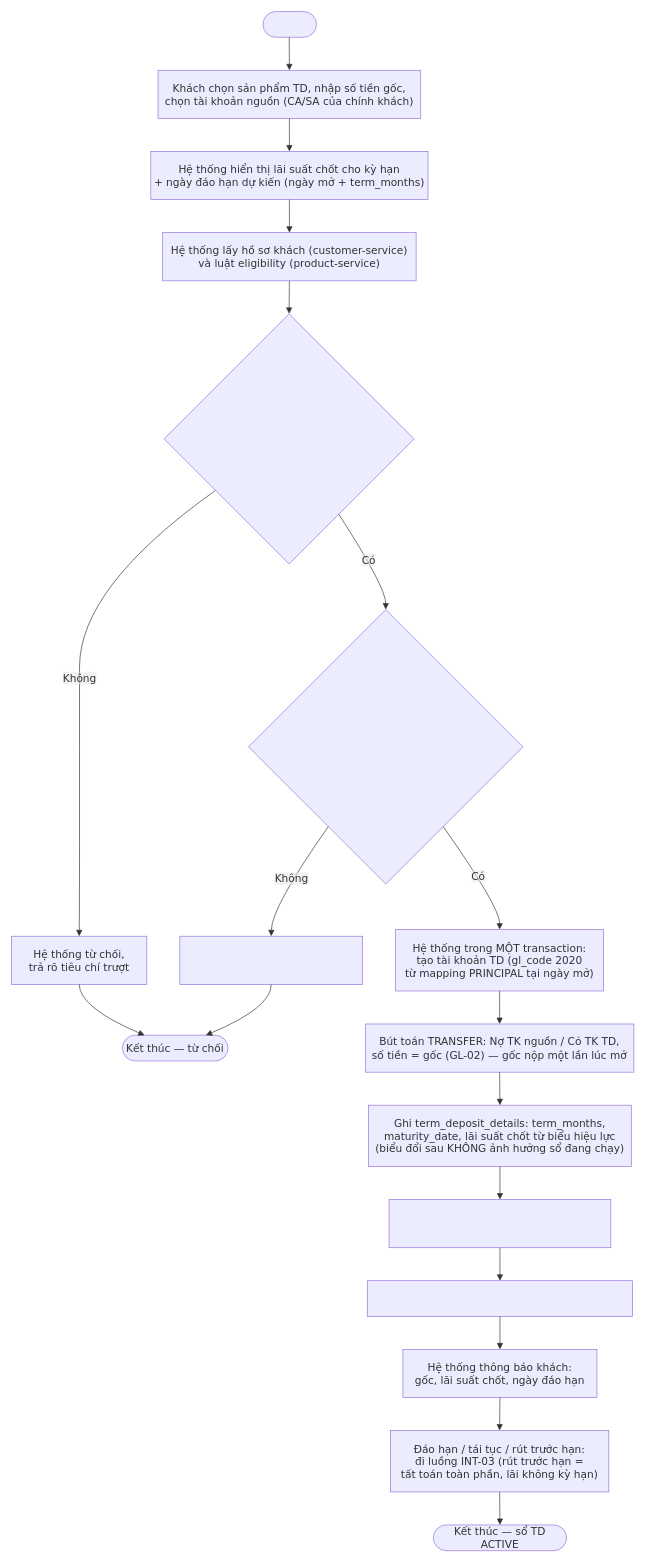
The diagram is 645 pixels wide and 1562 high, and some of its shapes have lost their labels. The centre of each missing label's shape, as x and y in pixels:
available_balance tài khoản nguồn ≥ số tiền gốc?: the point at 385,746
Bắt đầu: the point at 289,24
Hệ thống phát account.opened.v1 (qua outbox): the point at 500,1298
Hệ thống từ chối — không đủ số dư khả dụng (E2): the point at 271,960
Hệ thống đặt tài khoản TD ACTIVE ngay trong luồng (PENDING → ACTIVE): the point at 499,1223
Đạt eligibility? (TD_12M yêu cầu kyc_level ≥ 2): the point at 288,438
